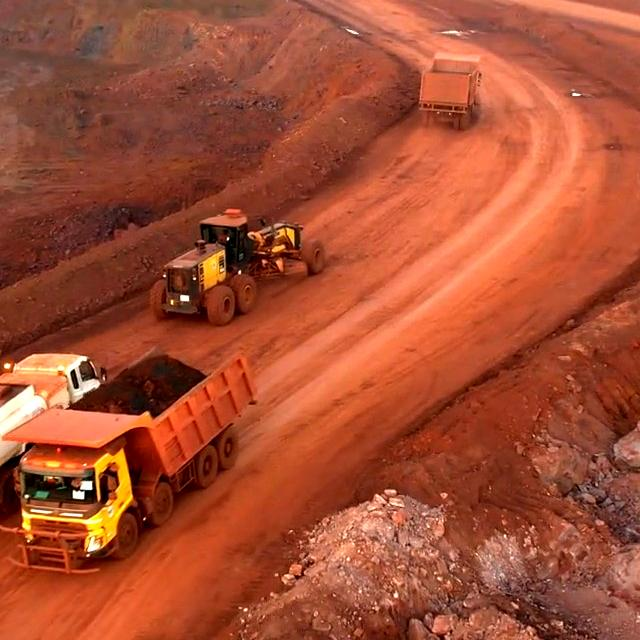Dumper truck: (16, 431, 139, 565), (417, 59, 480, 124)
